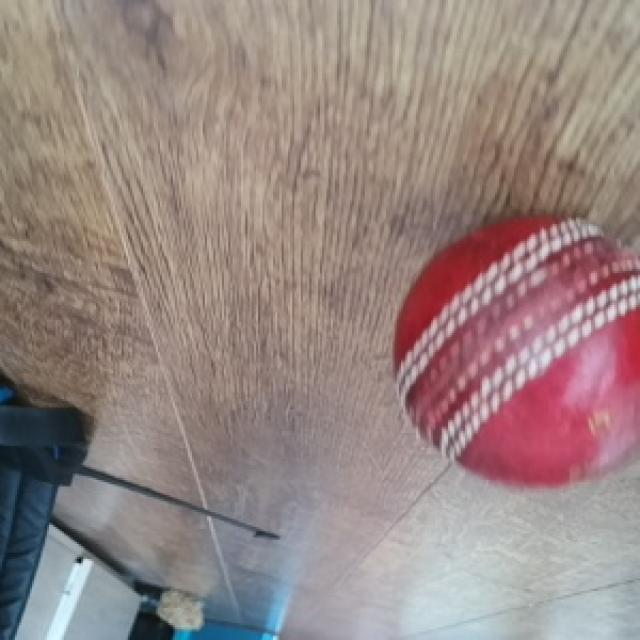ball: (390, 215, 640, 493)
